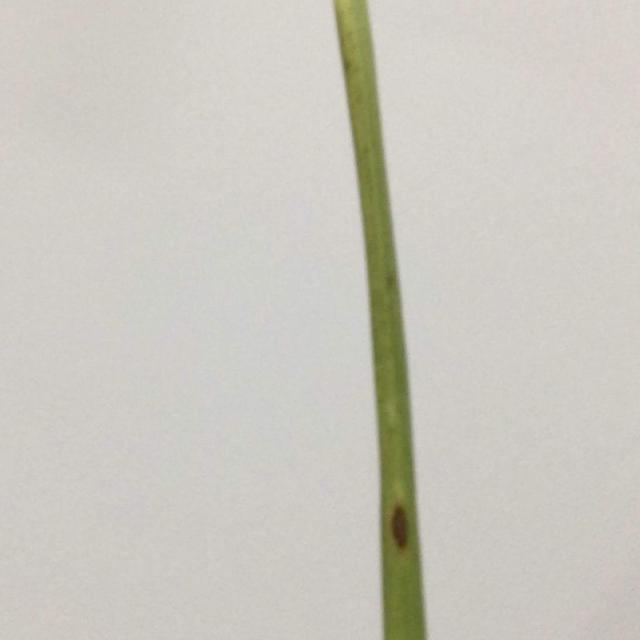Leaf blast: (388, 493, 412, 558)
